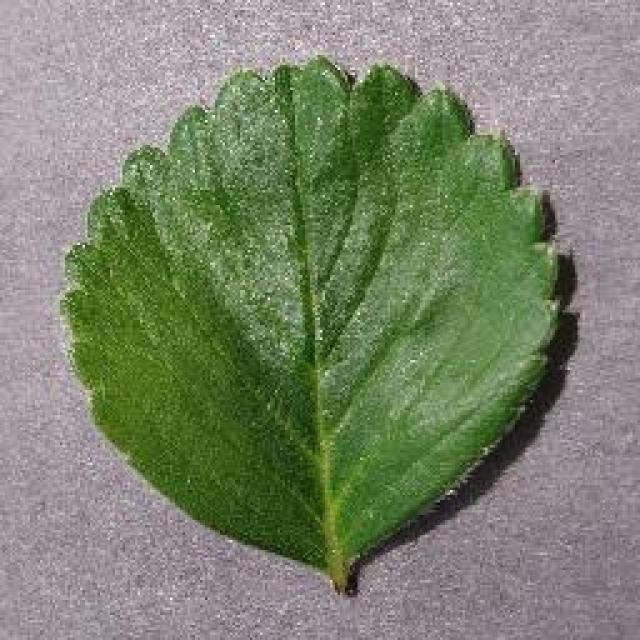Straw_healthy: (110, 87, 544, 501)
